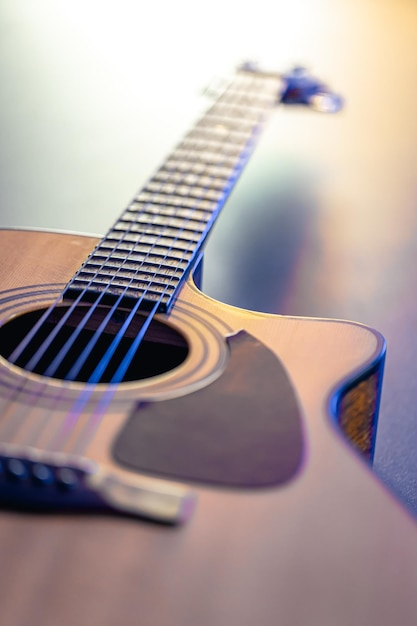guitar: (0, 44, 402, 622)
